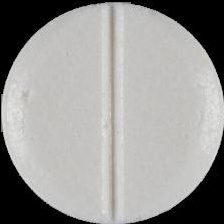68151-1305: (0, 0, 224, 224)
